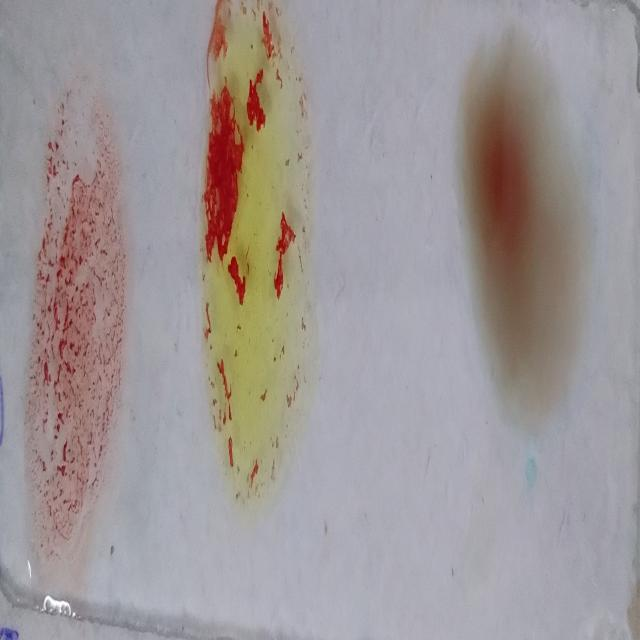B: (205, 2, 302, 502)
D: (31, 63, 118, 550)
